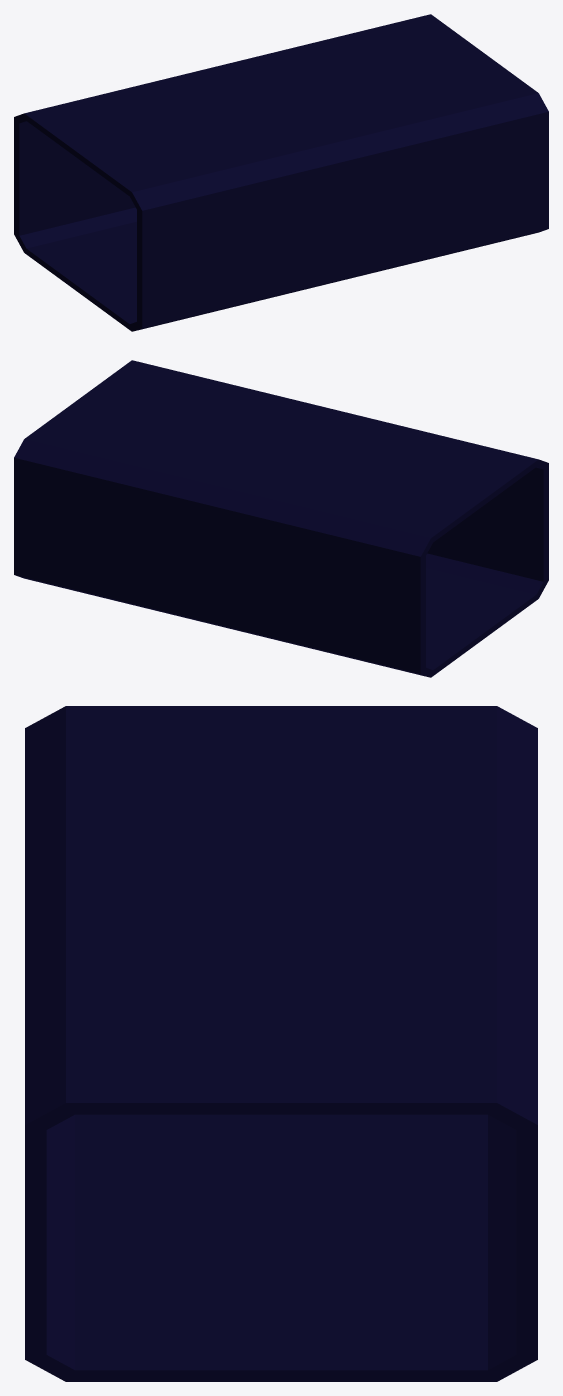
File: vent_plain.fbx
3 renders of one model, top to bottom at view 1: azimuth 30°, elevation 25°; view 2: azimuth 150°, elevation 25°; view 3: azimuth 270°, elevation 25°, orthographic. The views are drawn at different scales.
Visible parts, largest first — view 1: Cube; view 2: Cube; view 3: Cube.
Part boxes in pixels (left/top/right/bottom): Cube: left=14, top=14, right=548, bottom=331; Cube: left=14, top=360, right=548, bottom=677; Cube: left=25, top=706, right=537, bottom=1381.
Bounding box in the file's own units: 4000 × 1311 × 2185.
